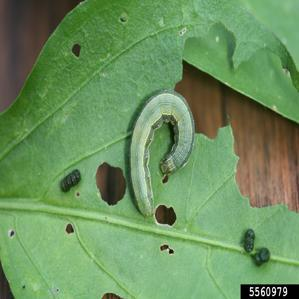Beet armyworm: (109, 76, 204, 225)
